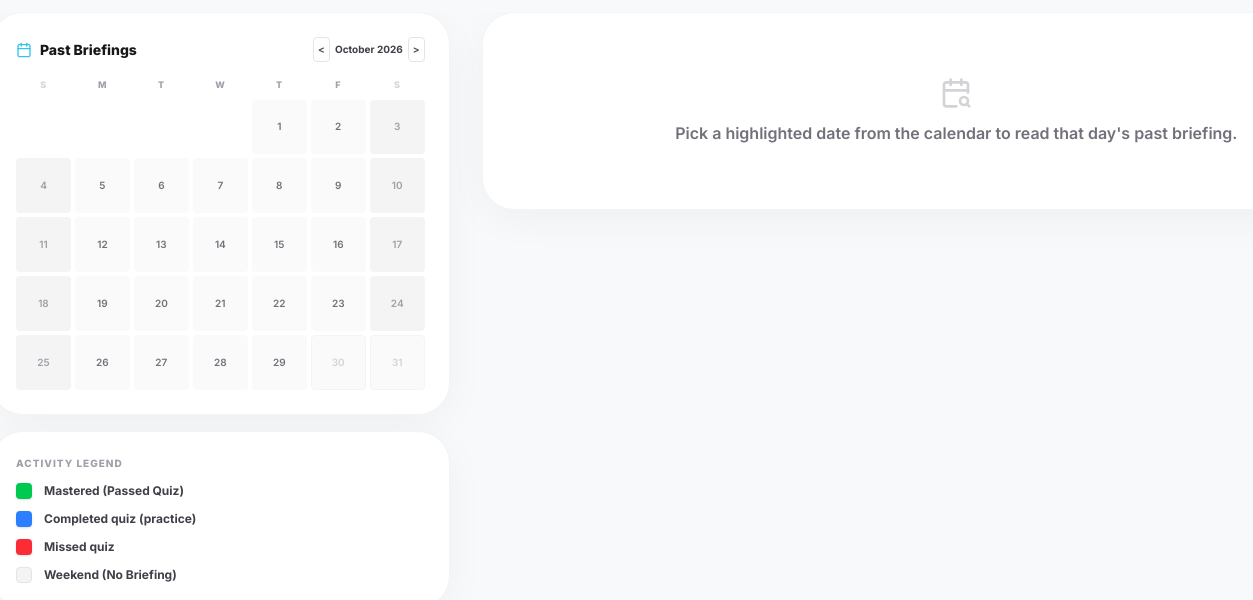
Test: PastBlogsTab › fetches and displays a blog when a past date with completed quiz is clicked
Click the button "1". click: [279, 127]
box: x1=252 y1=100 x2=307 y2=154
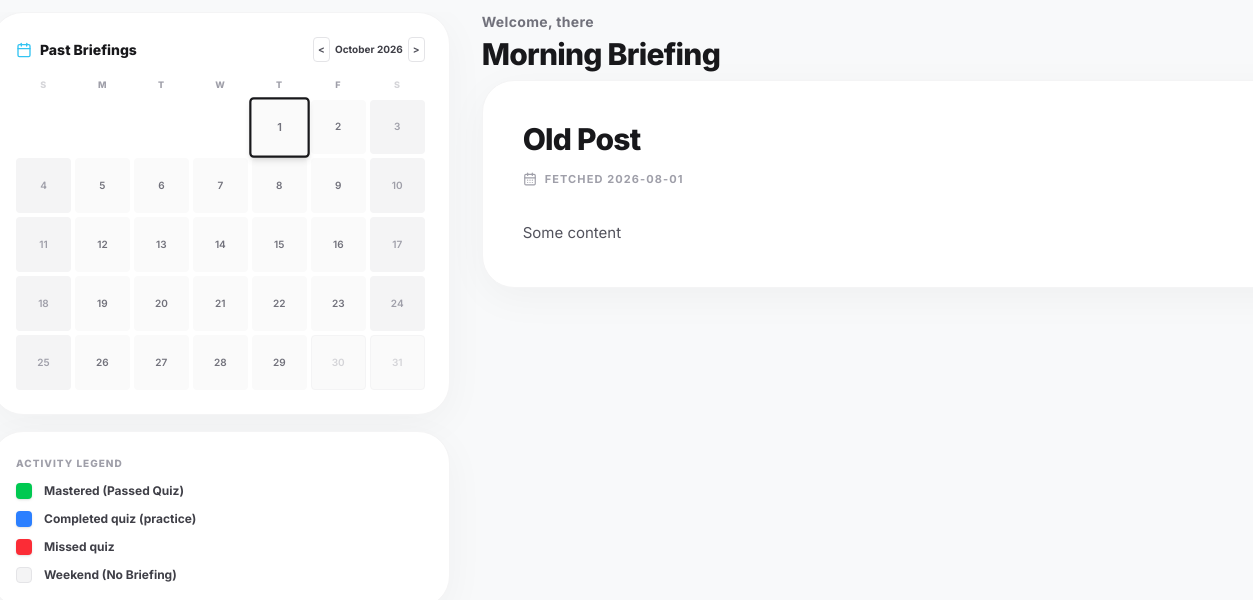
Expected: the heading "Old Post" is shown, x1=523 y1=121 x2=641 y2=157
